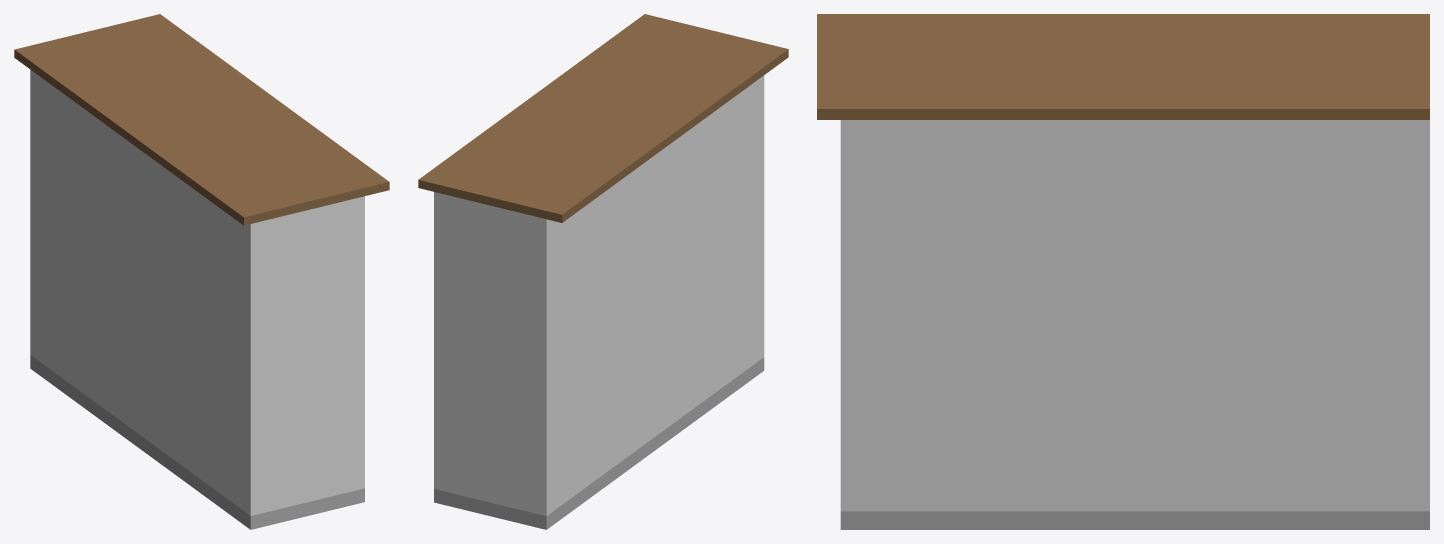
Rendered from Table_08_C1.fbx.
3 views of the same model, side by side, from view 1: azimuth 30°, elevation 25°; view 2: azimuth 150°, elevation 25°; view 3: azimuth 270°, elevation 25° (orthographic). The views are drawn at different scales.
Visible parts, largest first — view 1: Table_08_C1; view 2: Table_08_C1; view 3: Table_08_C1.
Boxes of the visible parts, x1=… form: Table_08_C1: x1=14, y1=14, x2=389, y2=529; Table_08_C1: x1=418, y1=14, x2=788, y2=529; Table_08_C1: x1=817, y1=14, x2=1429, y2=529.
Size of the model in its own units: 55 by 117 by 150.
